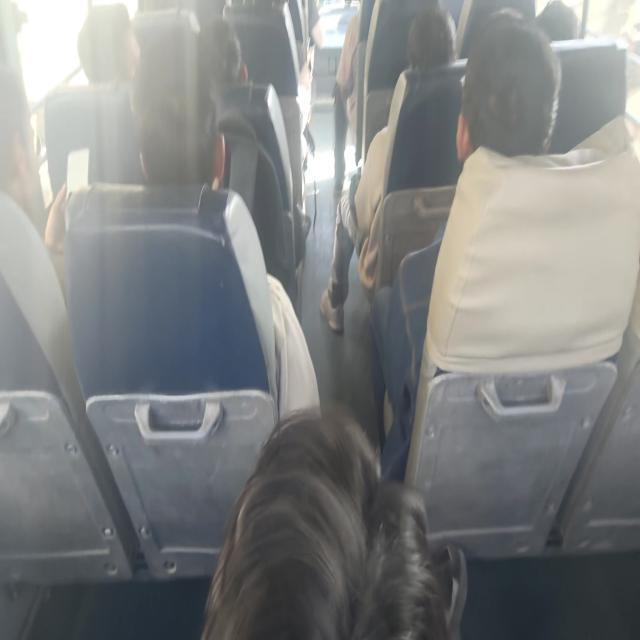person: (47, 11, 322, 422), (370, 7, 562, 481), (200, 406, 468, 638), (320, 6, 456, 332), (197, 17, 305, 271), (0, 64, 68, 253), (331, 7, 361, 194)
